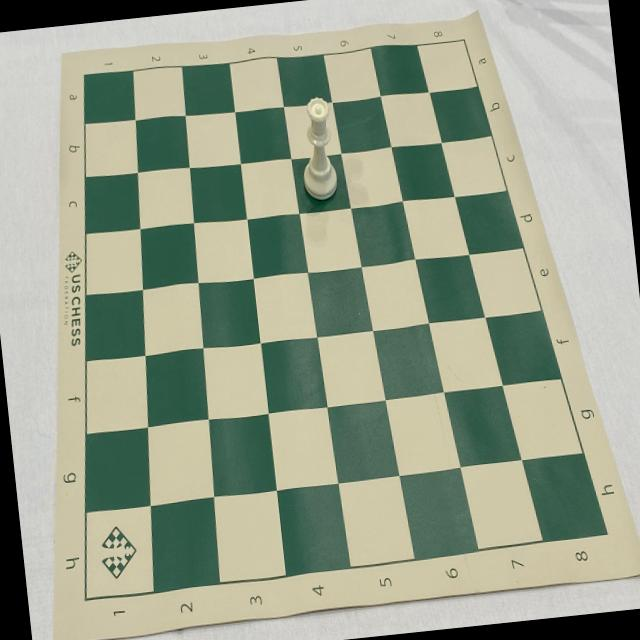white-queen: (295, 96, 340, 203)
